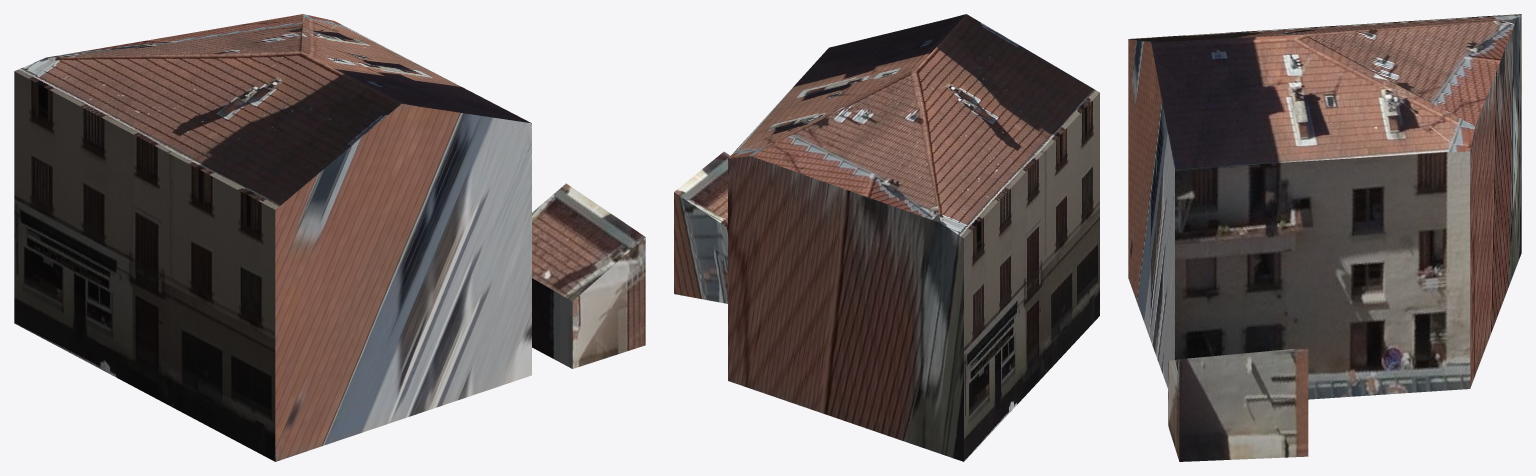
The picture shows the model from 3 angles, left to right: view 1: azimuth 30°, elevation 25°; view 2: azimuth 150°, elevation 25°; view 3: azimuth 270°, elevation 25°; orthographic projection. The views are drawn at different scales.
Visible parts, largest first — view 1: Z_UP; view 2: Z_UP; view 3: Z_UP.
Part boxes in pixels (<box>): Z_UP: <box>14,14,645,461</box>; Z_UP: <box>674,14,1099,461</box>; Z_UP: <box>1128,14,1521,461</box>.
Size of the model in its own units: 19.74 by 13.2 by 15.71.
2 materials, 1 textured.
